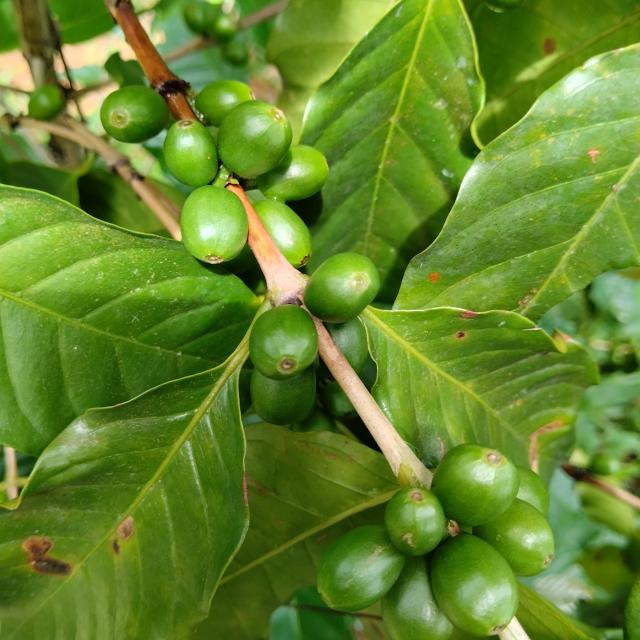green: (431, 535, 520, 638), (318, 526, 405, 612), (432, 444, 520, 527), (474, 499, 555, 578), (382, 556, 454, 640), (217, 100, 292, 178), (304, 252, 380, 323), (180, 185, 248, 264), (249, 304, 318, 381), (385, 487, 446, 557), (256, 145, 329, 201), (253, 198, 311, 268), (250, 365, 316, 426), (100, 85, 169, 142), (163, 118, 218, 187), (195, 79, 252, 126), (517, 467, 551, 516)
